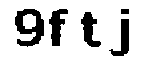9: (11, 6, 44, 50)
f: (46, 7, 70, 48)
j: (109, 8, 133, 60)
t: (78, 11, 105, 51)
